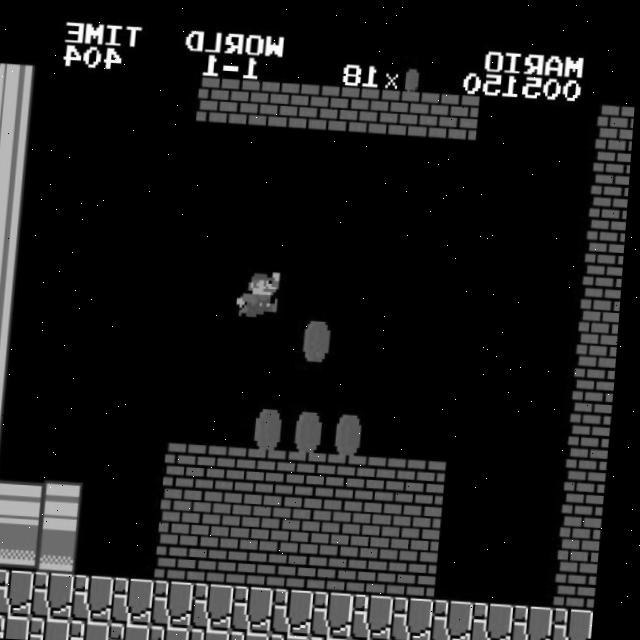1- brick_block: (396, 86, 441, 135), (365, 497, 410, 546), (356, 84, 401, 133), (325, 495, 370, 544), (285, 493, 330, 542), (276, 79, 321, 128), (245, 490, 290, 539), (236, 77, 281, 126), (205, 488, 250, 537), (165, 485, 210, 534), (162, 531, 207, 580), (436, 89, 481, 137), (408, 454, 453, 502), (405, 500, 450, 548), (316, 82, 361, 130), (196, 75, 241, 123), (572, 417, 616, 466), (402, 545, 446, 594), (322, 540, 366, 589), (282, 538, 326, 587), (368, 452, 413, 499), (328, 450, 373, 497), (562, 554, 606, 602), (362, 543, 406, 591), (289, 447, 333, 495), (242, 536, 286, 584), (202, 534, 246, 582), (169, 440, 213, 488), (582, 279, 625, 328), (576, 371, 619, 420), (249, 445, 293, 492), (209, 443, 253, 490), (579, 325, 622, 373), (586, 233, 628, 282), (569, 463, 612, 510), (566, 509, 609, 556), (592, 144, 633, 191), (596, 98, 636, 146), (590, 190, 630, 237)
11- little_mario: (240, 263, 287, 315)
14- pipe: (2, 522, 47, 571), (6, 476, 50, 525), (0, 63, 42, 111), (0, 109, 38, 156), (0, 155, 35, 202), (0, 200, 31, 248), (0, 246, 28, 294), (0, 291, 24, 339), (0, 336, 21, 385), (0, 382, 18, 431), (0, 428, 14, 476), (0, 474, 10, 522), (0, 519, 7, 568)
15- pipe_head: (42, 524, 87, 573), (46, 479, 90, 527)
17- undestructible_block: (398, 591, 443, 640), (318, 586, 363, 635), (278, 584, 323, 633), (158, 577, 203, 626), (38, 570, 83, 619), (358, 589, 403, 637), (238, 582, 283, 630), (198, 580, 243, 628), (118, 575, 163, 623), (78, 573, 123, 621), (438, 593, 483, 640), (0, 568, 43, 617), (478, 596, 523, 640), (518, 598, 562, 640), (558, 600, 602, 640), (0, 613, 39, 639), (37, 616, 79, 640), (77, 618, 119, 640), (117, 620, 159, 640), (157, 622, 199, 640), (197, 625, 239, 640), (237, 627, 279, 640), (277, 630, 319, 640), (317, 631, 359, 640), (357, 634, 399, 640), (0, 565, 4, 614), (397, 637, 439, 640), (437, 638, 479, 640)
2- coin: (299, 310, 344, 359), (292, 401, 337, 450), (252, 399, 297, 448), (332, 404, 377, 452)
